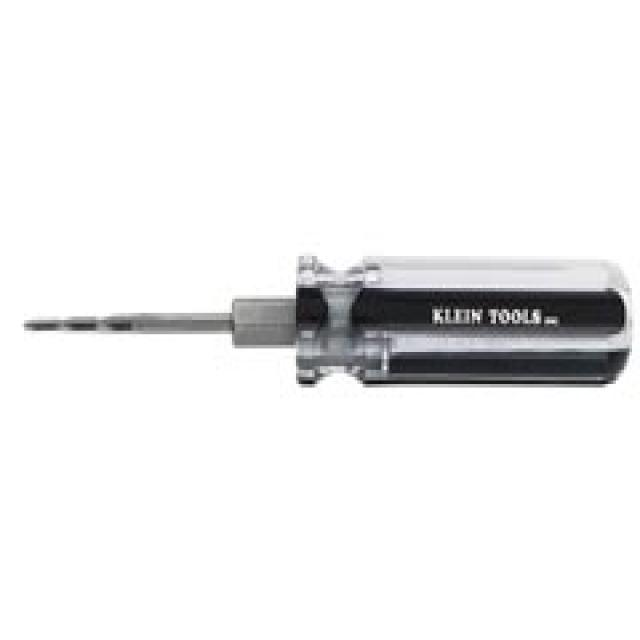screw driver: (11, 237, 640, 435)
